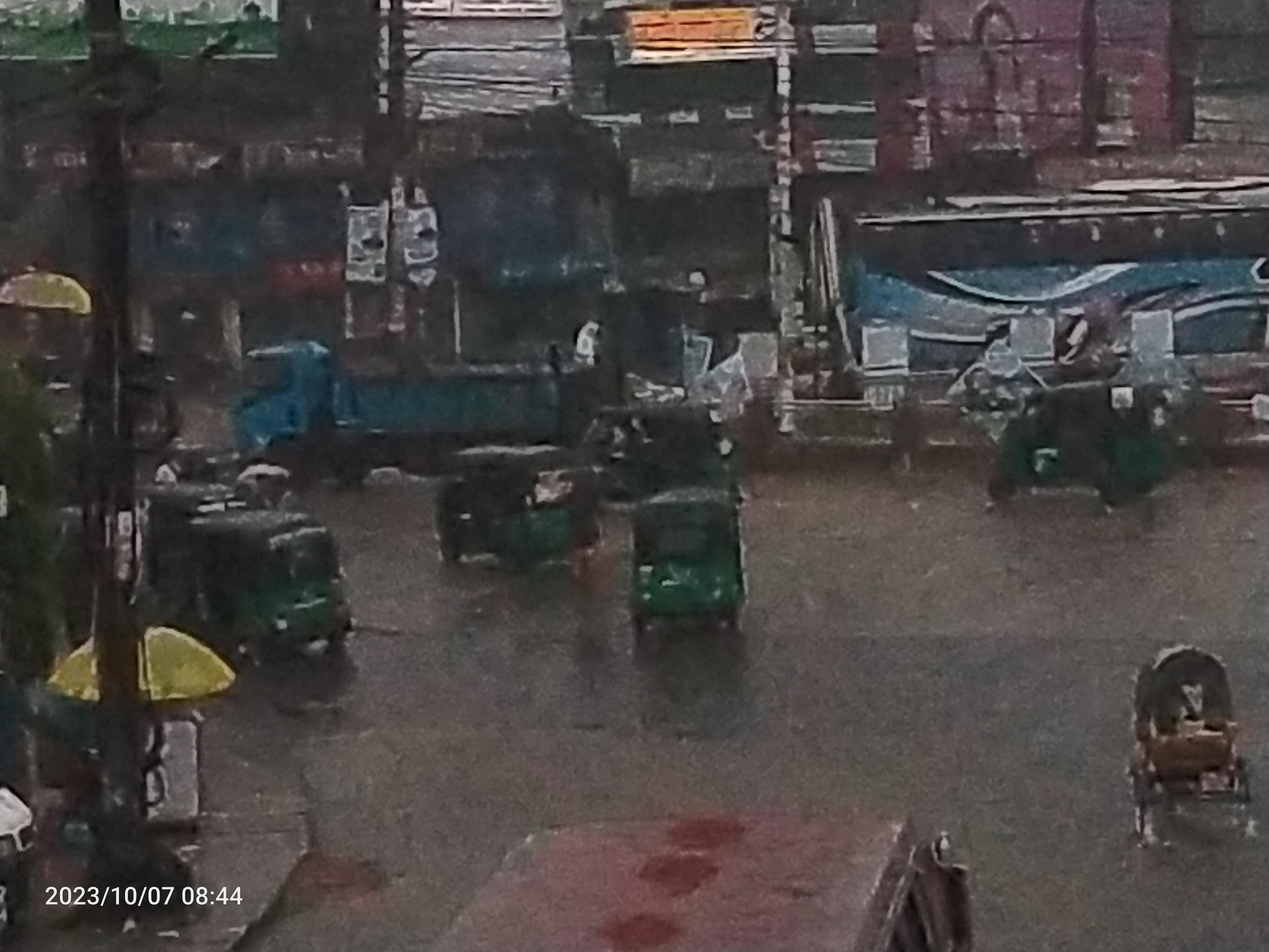Bus: (814, 169, 1269, 396)
Car: (1083, 606, 1269, 866)
Truck: (198, 301, 603, 501)
